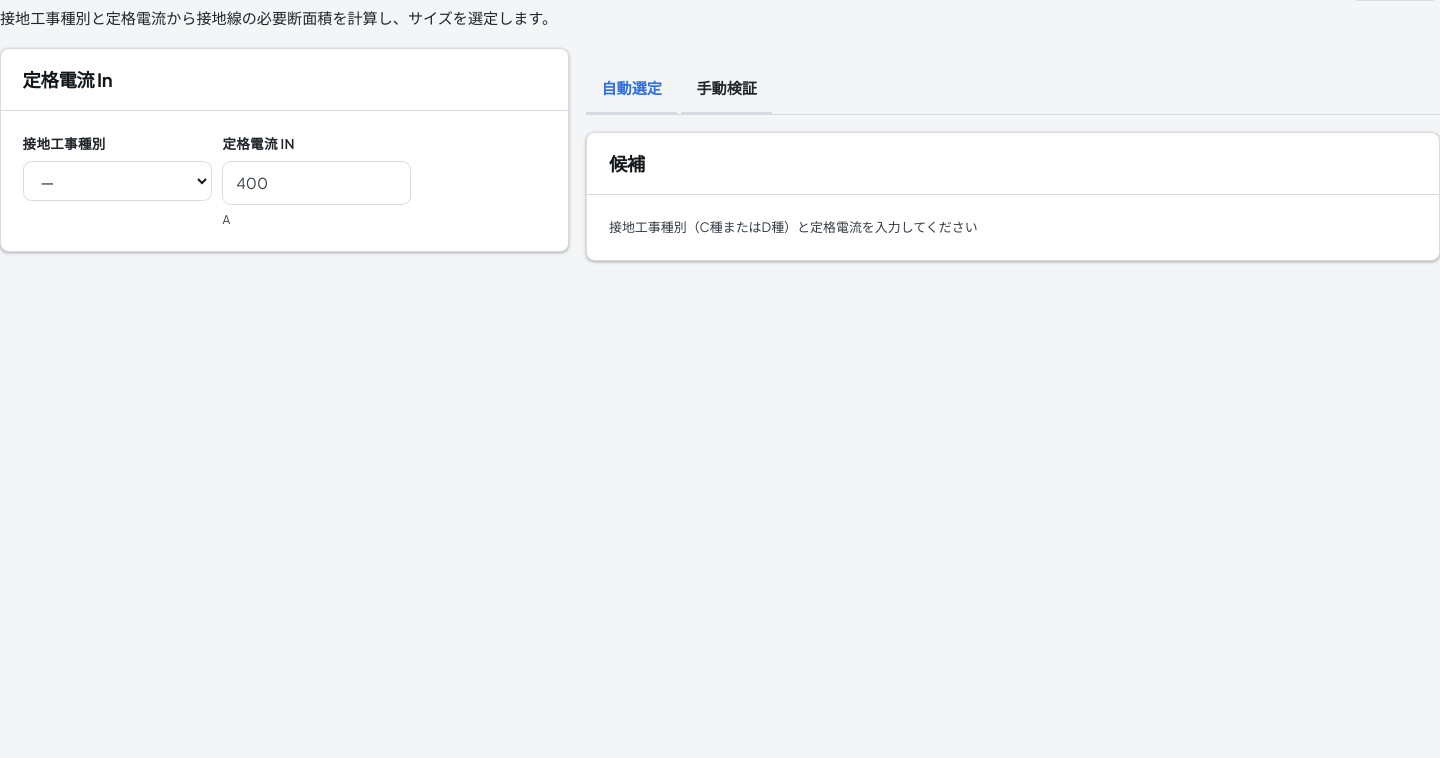
Test: EarthWireCalculationView — 手動検証 what-if (spec #17, #30) › shows real margin/judgment when a master size is picked against a required area
The width and height of the screenshot is (1440, 758).
Select "C種接地工事" in the dropdown labelled "接地工事種別". click: (117, 181)
box: [23,161,212,202]
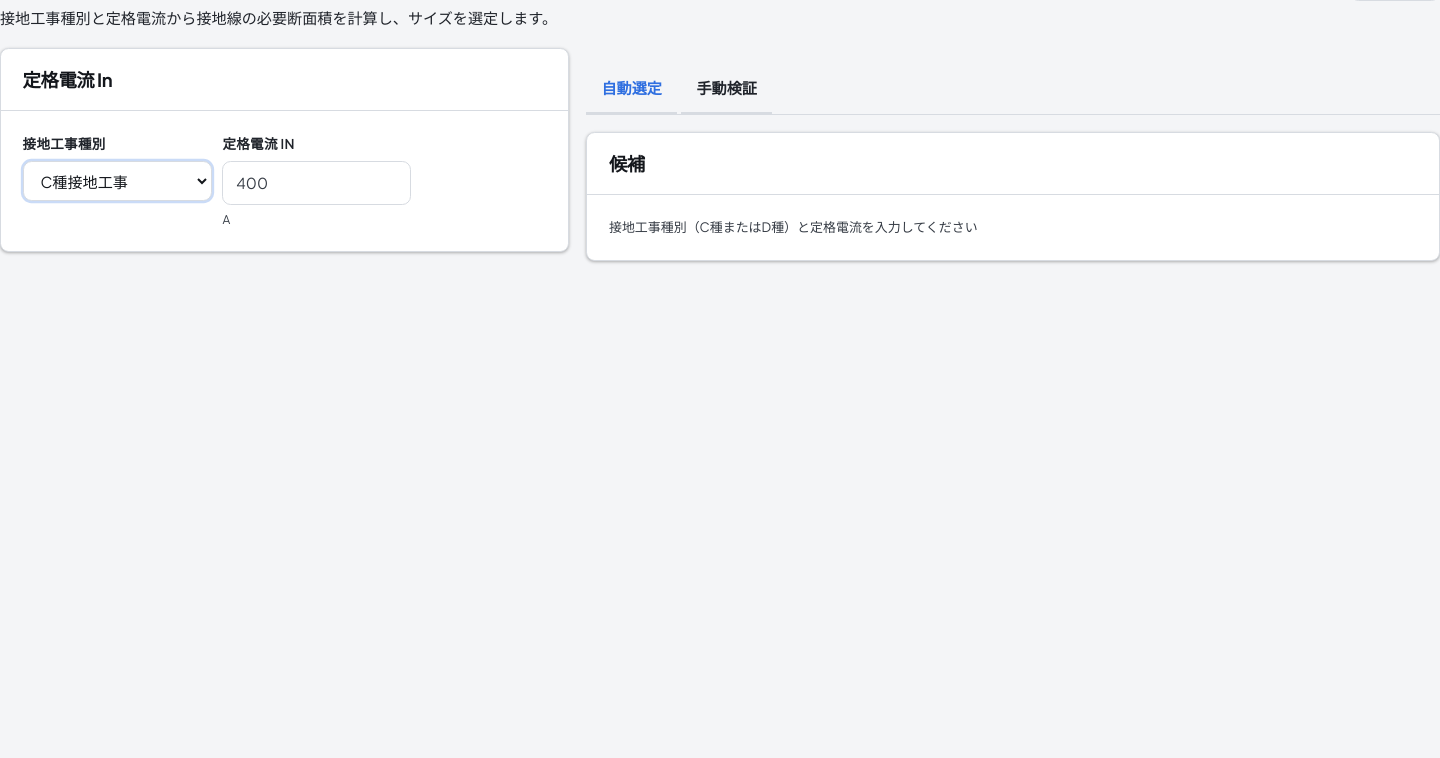
Type "150" into the number field with placeholder "400". click: (317, 183)
box: [222,161,411,205]
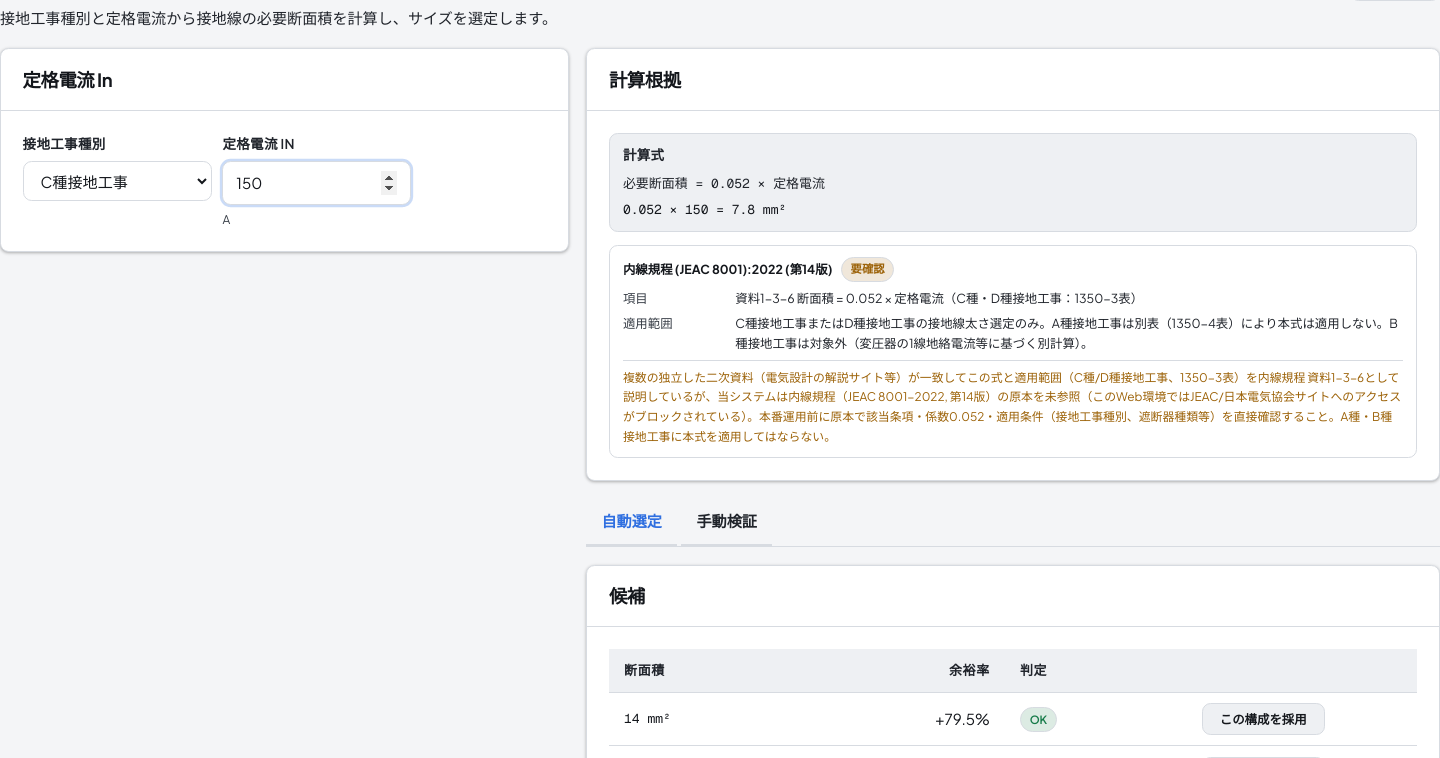
Click the button "手動検証". click: (727, 522)
box: [681,498,772,546]
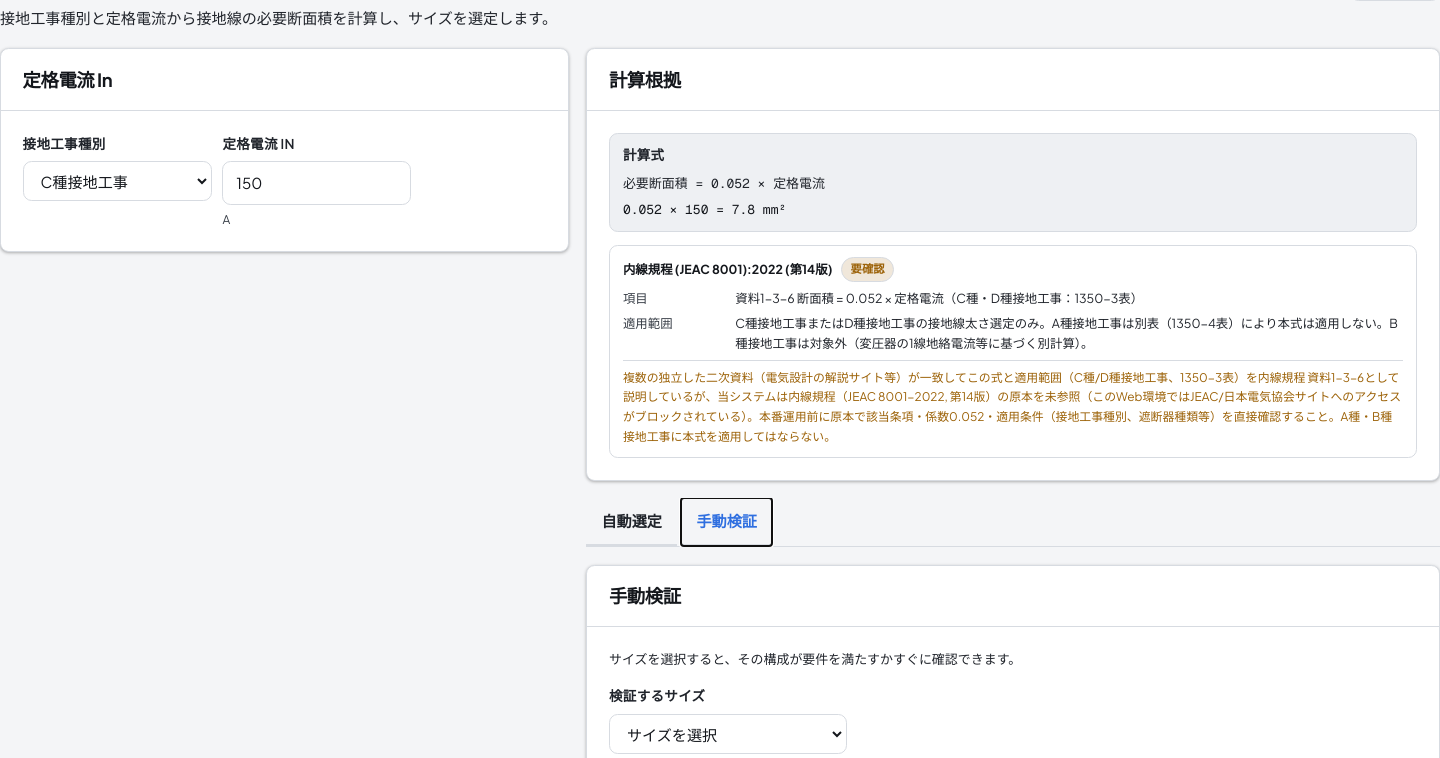
Select "14 mm²" in the dropdown labelled "検証するサイズ". click: (728, 734)
box: [609,714,847,754]
(page scrolled)
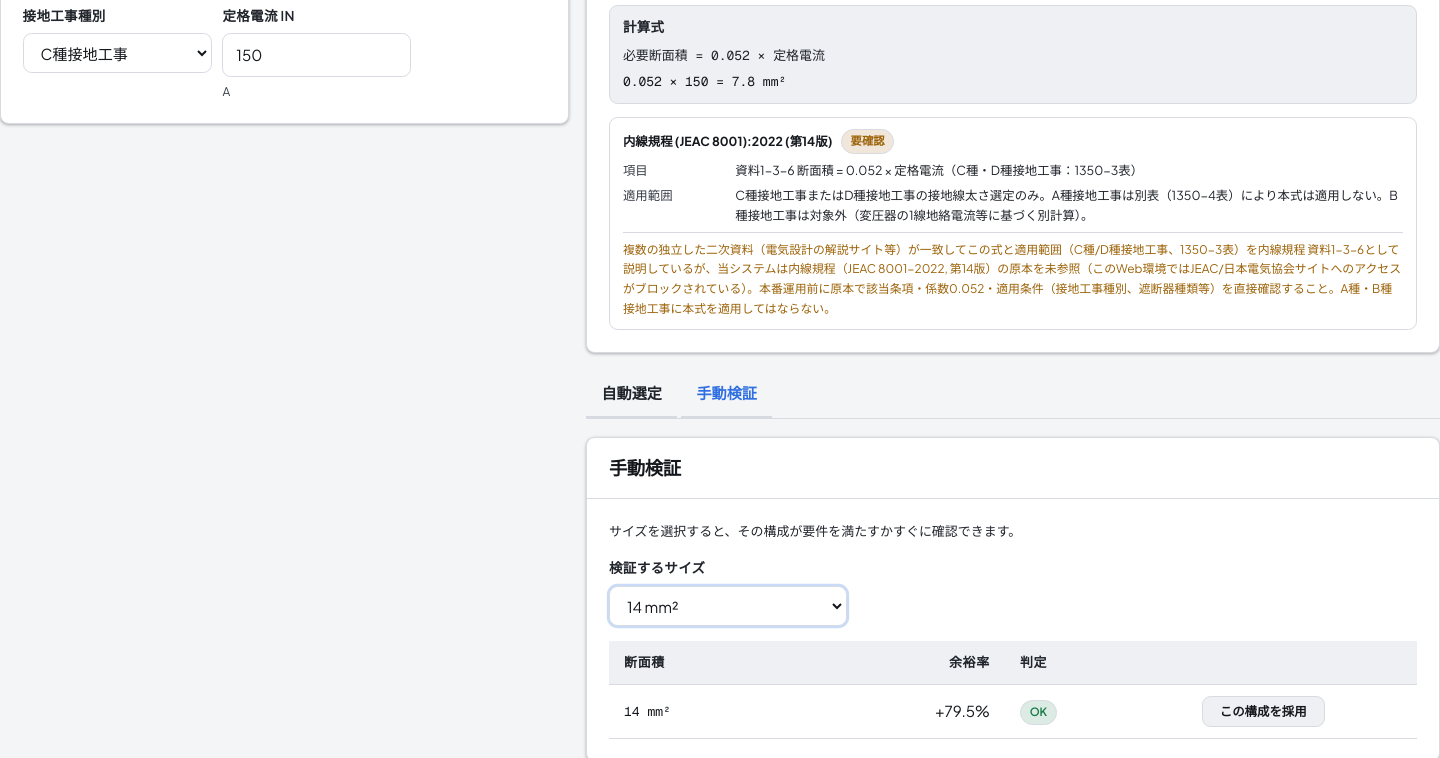
Now the text "OK" is shown, box [1020,700,1057,725]
